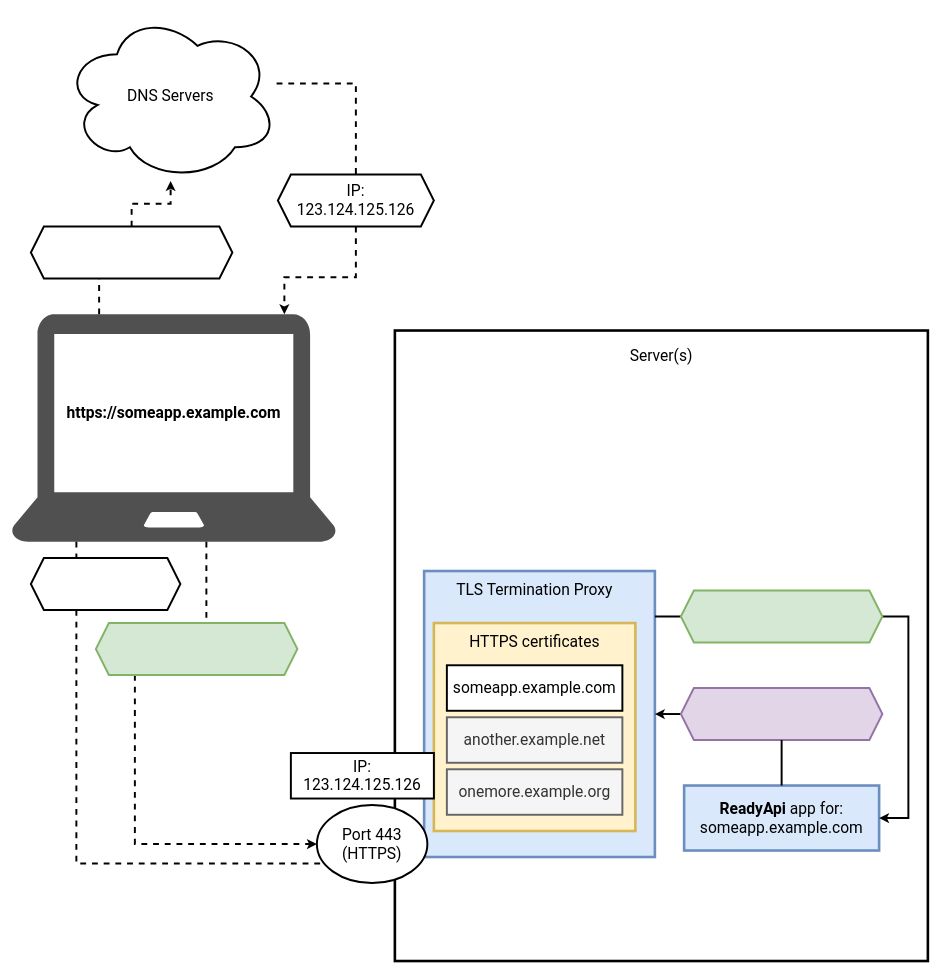
Some shapes in this 940 by 974 pixel diagram are drawn without their labels. The centre of each missing label's shape, as x and y in pixels:
"Decrypted request for: someapp.example.com" goes at point 781,616.
"Encrypted request for: someapp.example.com" goes at point 196,649.
"Plain response from: someapp.example.com" goes at point 781,714.
"TLS Handshake" goes at point 105,584.
"Who is: someapp.example.com" goes at point 131,252.
